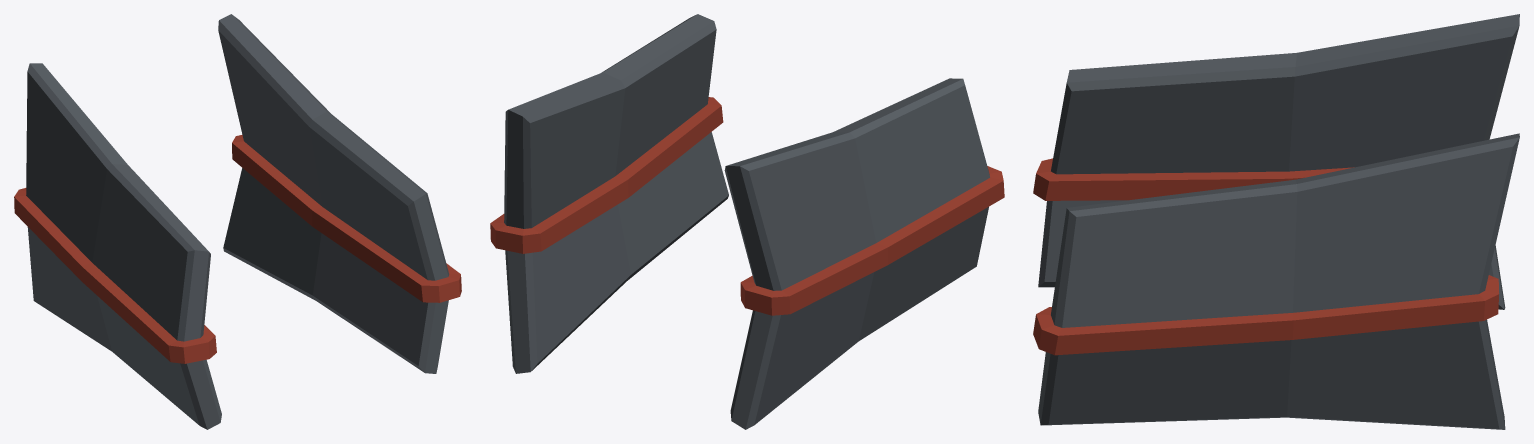
File: Personal_Vehicle_04_Thruster_Frame_Red.fbx
3 views of the same model, side by side, from view 1: azimuth 30°, elevation 25°; view 2: azimuth 150°, elevation 25°; view 3: azimuth 270°, elevation 25° (orthographic). The views are drawn at different scales.
Visible parts, largest first — view 1: Personal_Vehicle_04_Thruster_Frame_Red; view 2: Personal_Vehicle_04_Thruster_Frame_Red; view 3: Personal_Vehicle_04_Thruster_Frame_Red.
Boxes of the visible parts, box(x1,y1,x2,y2) form: Personal_Vehicle_04_Thruster_Frame_Red: box(14, 14, 461, 429); Personal_Vehicle_04_Thruster_Frame_Red: box(490, 14, 1004, 429); Personal_Vehicle_04_Thruster_Frame_Red: box(1033, 14, 1519, 429).
Bounding box in the file's own units: 82.68 × 63.25 × 95.16.
Materials: 1 (1 with a texture image).
